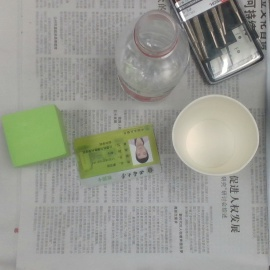bottle: (111, 10, 188, 107)
card: (73, 124, 162, 187)
cup: (172, 95, 259, 179)
